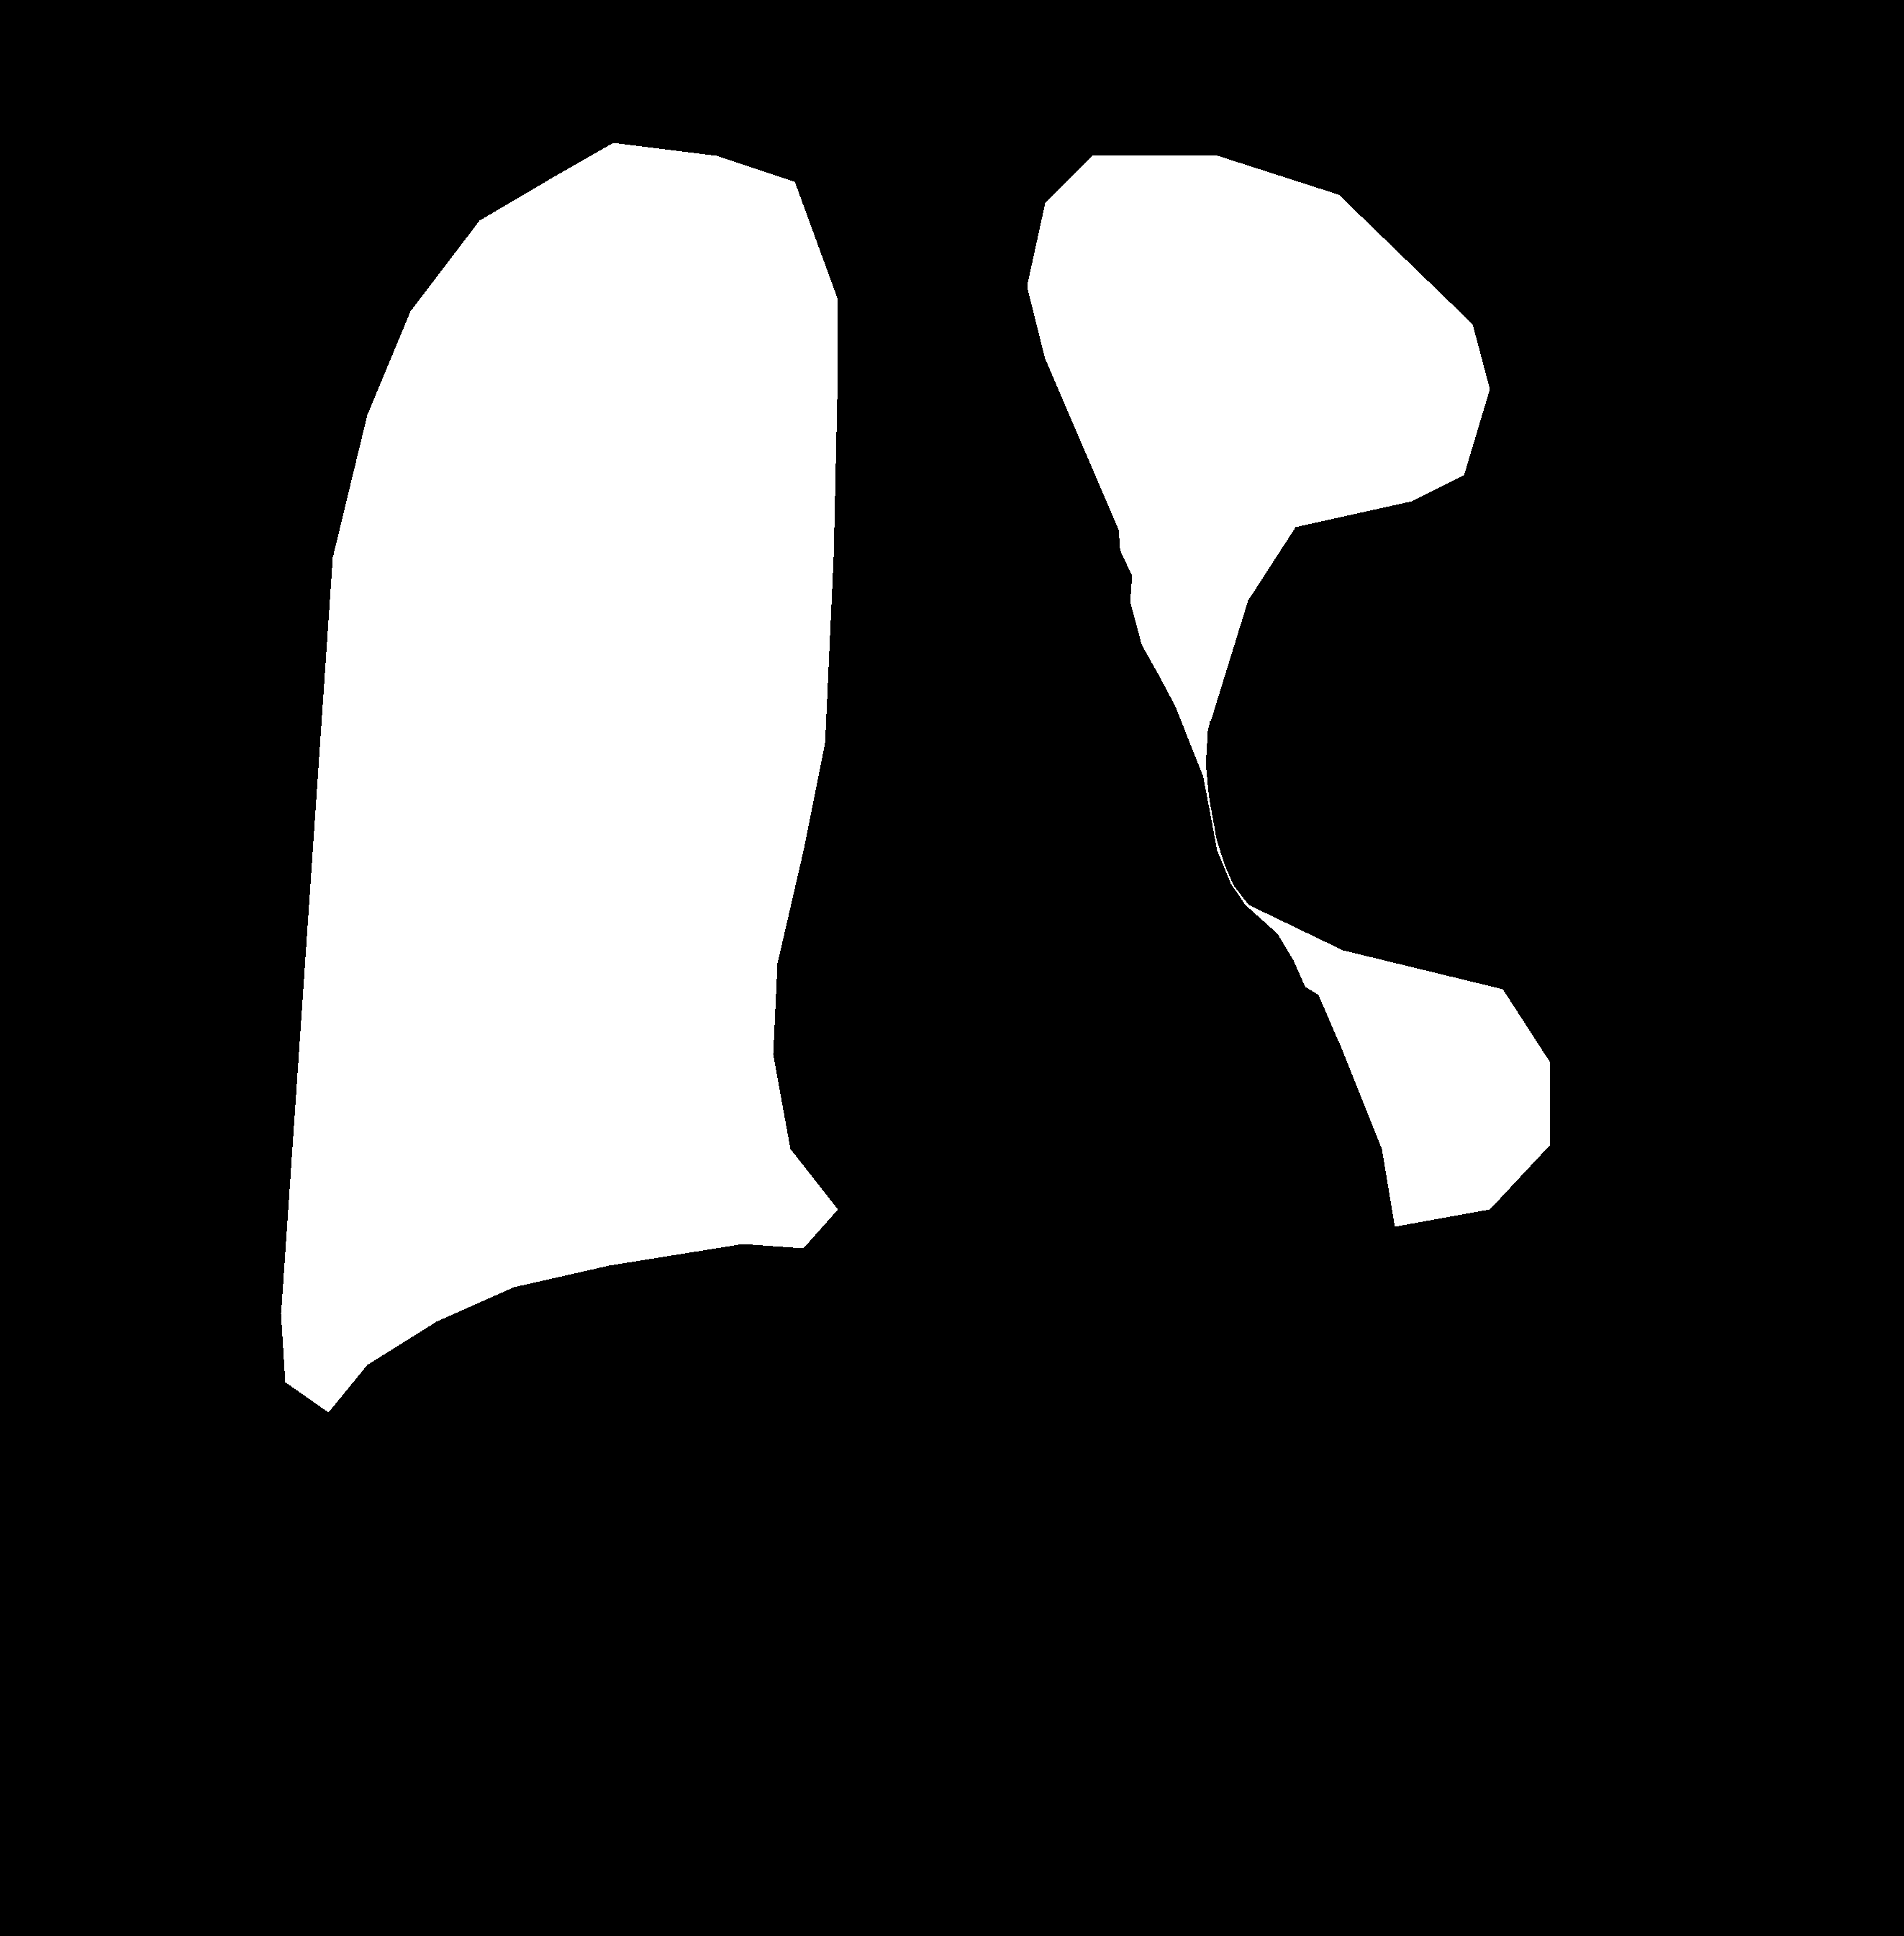heart: (758, 863, 1395, 1298)
left_lung: (281, 143, 839, 1411)
right_lung: (1027, 155, 1550, 1226)
